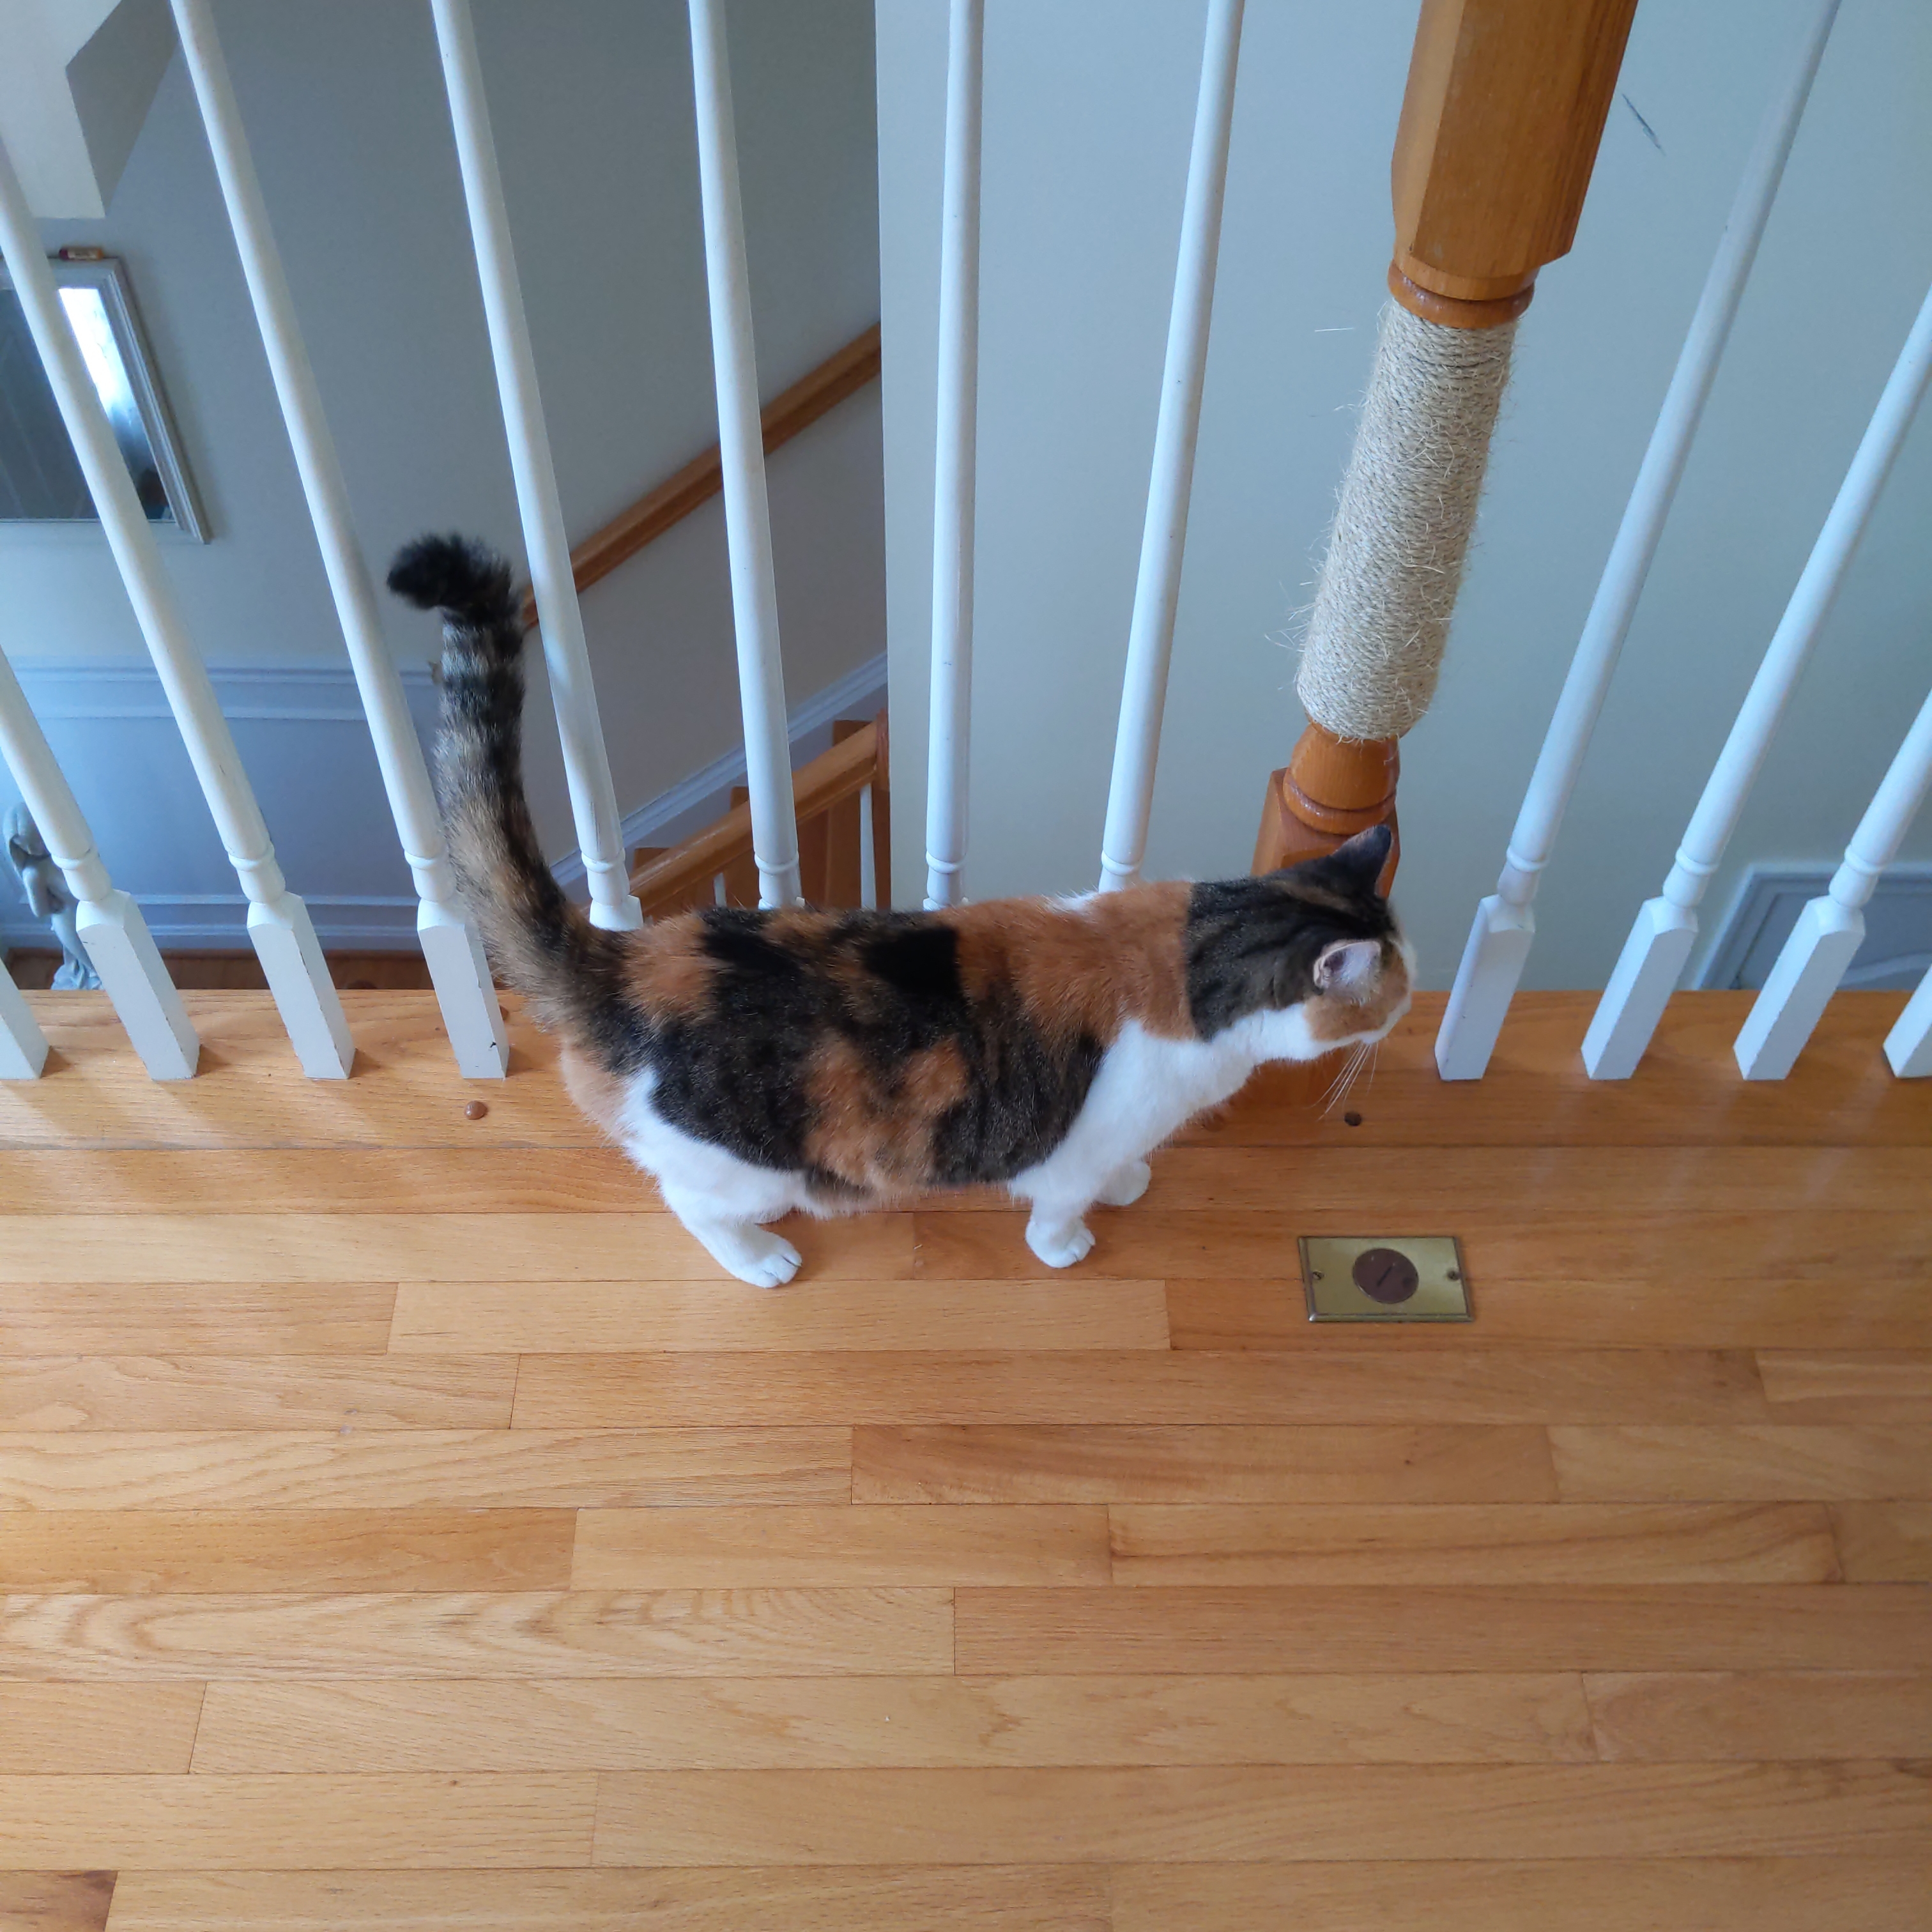Calico: (386, 531, 1421, 1288)
